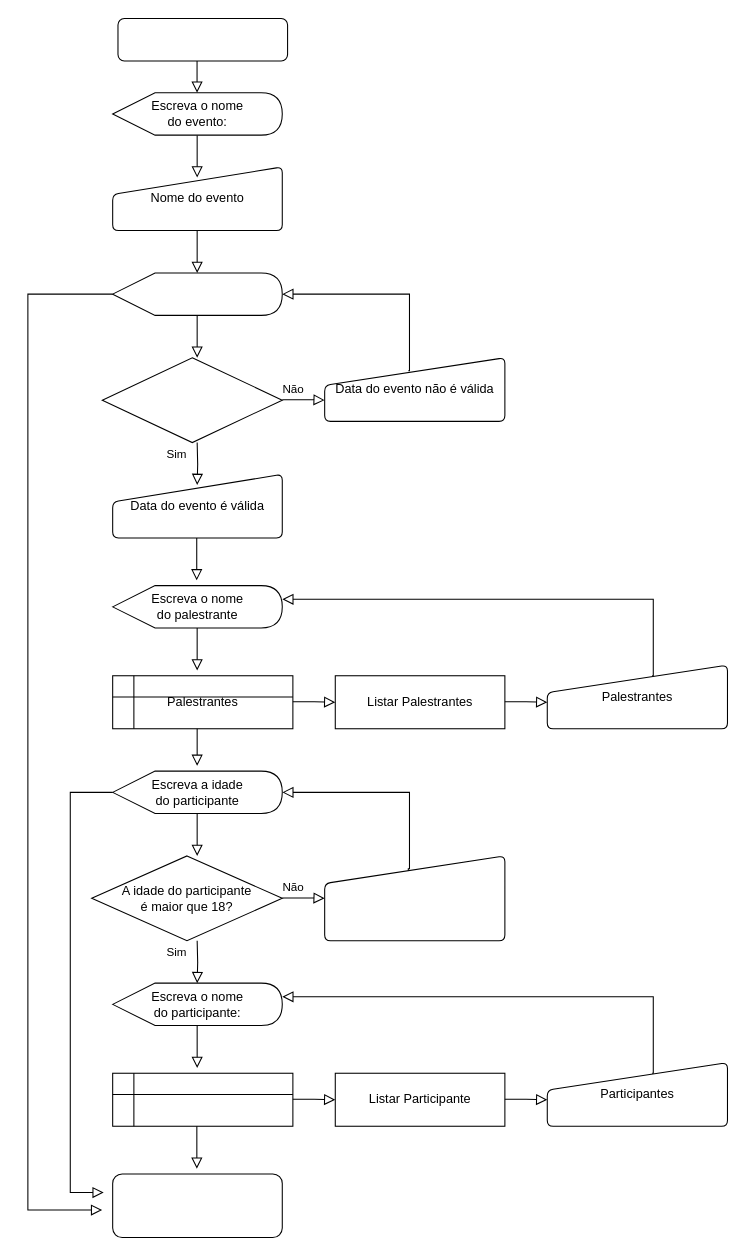
Image size: 746x1256. Some labels were removed from this diagram. The centre of each missing label's shape, as x and y in pixels:
A idade do participante não é permitida para o evento: point 414,898
Cadastro de eventos FIM: point 197,1205
Cadastro de eventos INÍCIO: point 202,39
Data do evento é posterior a data atual?: point 191,400
Escreva a data do evento:: point 197,293
Participante: point 202,1099
